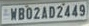character: (32, 6, 40, 19), (40, 6, 48, 18), (56, 5, 63, 18), (71, 4, 78, 17), (9, 8, 16, 20), (25, 7, 32, 19), (48, 6, 55, 18), (78, 4, 85, 16), (64, 4, 70, 18), (18, 7, 24, 20)
